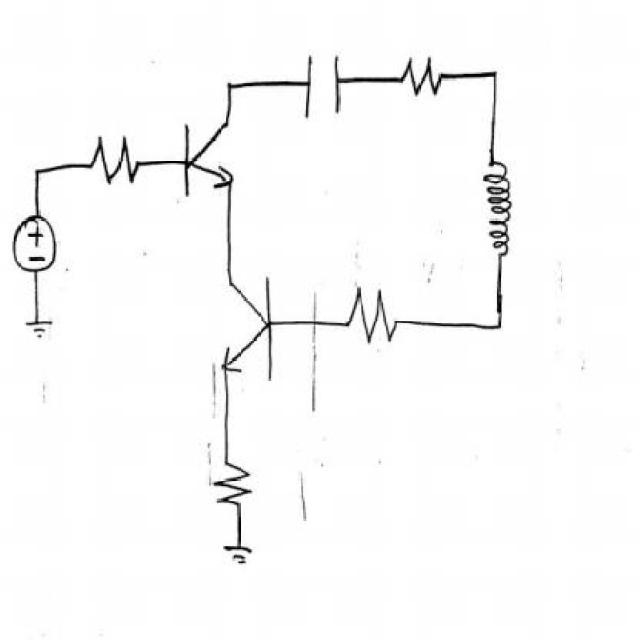capacitor: (295, 45, 348, 127)
ground: (214, 526, 283, 573), (17, 301, 68, 350)
inductor: (473, 154, 525, 270)
resistor: (339, 276, 406, 362), (390, 45, 459, 109), (82, 137, 146, 194), (212, 440, 252, 516)
transistor: (207, 267, 283, 398), (170, 102, 249, 203)
voltage_source: (1, 203, 68, 278)
